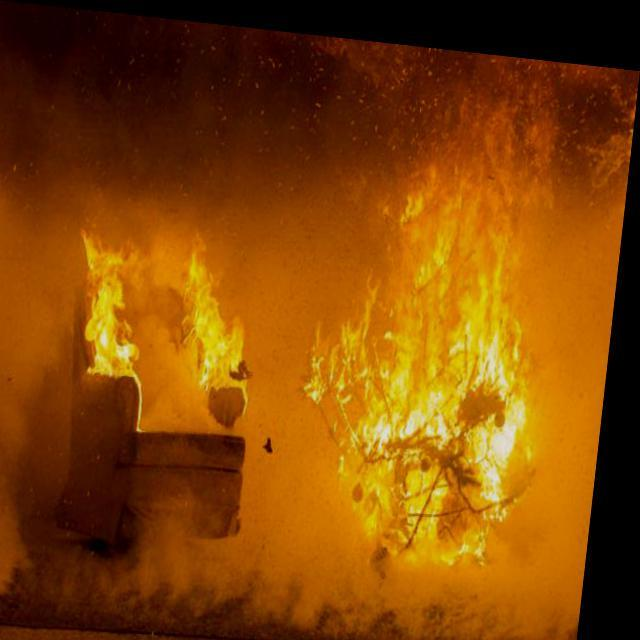Fire: (298, 143, 564, 574), (69, 206, 268, 432)
